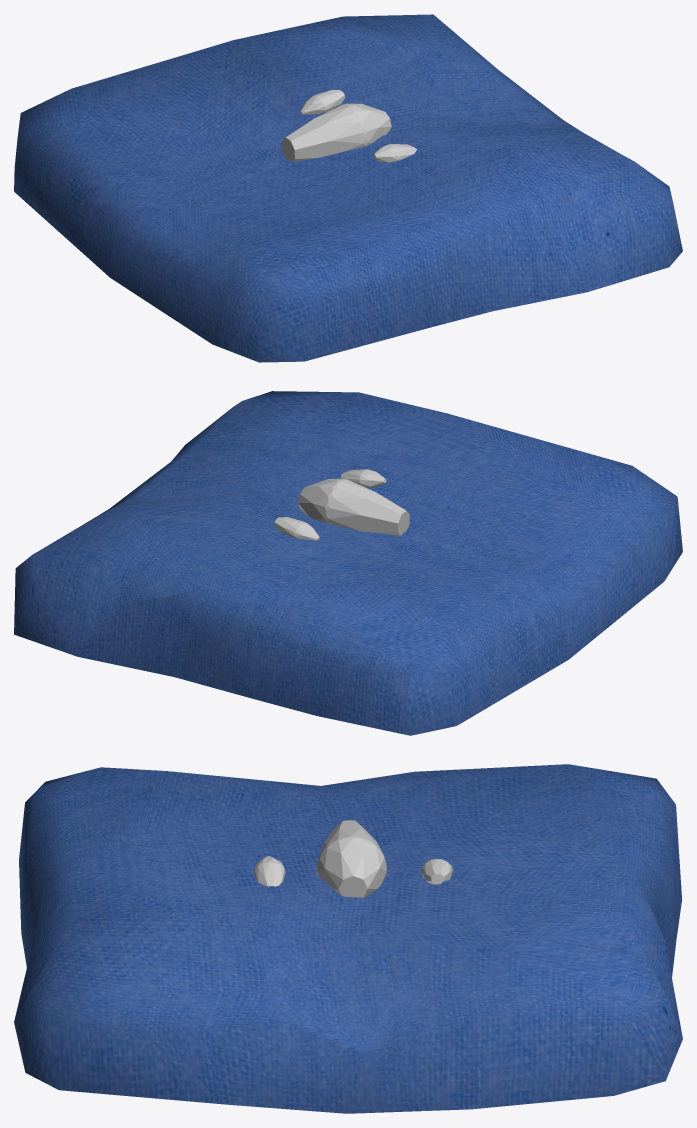
Rendered from Sword2.fbx.
The picture shows the model from 3 angles, top to bottom: view 1: azimuth 30°, elevation 25°; view 2: azimuth 150°, elevation 25°; view 3: azimuth 270°, elevation 25°; orthographic projection. The views are drawn at different scales.
Parts seen in each view (by area): view 1: pillow, part1; view 2: pillow, part1; view 3: pillow, part1.
Part boxes in pixels (x1,y1,x2,y2): pillow: [14, 14, 682, 362]; part1: [282, 90, 416, 162]; pillow: [14, 391, 682, 735]; part1: [274, 469, 409, 540]; pillow: [14, 764, 682, 1113]; part1: [254, 820, 452, 897].
Bounding box in the file's own units: 39.69 × 9.88 × 41.52.
